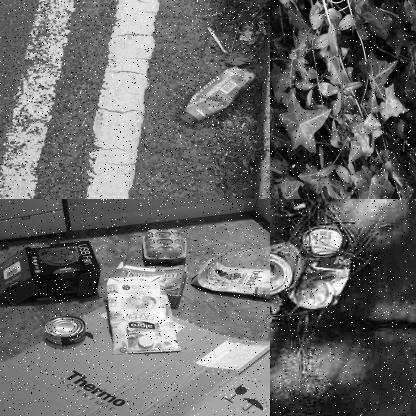cardboard: (0, 303, 269, 415), (0, 238, 106, 304), (114, 262, 186, 302), (197, 261, 269, 300), (142, 226, 190, 260)
metal: (292, 227, 353, 311), (270, 238, 305, 295), (37, 312, 88, 346)
plastic: (104, 276, 182, 354), (183, 64, 254, 121)
